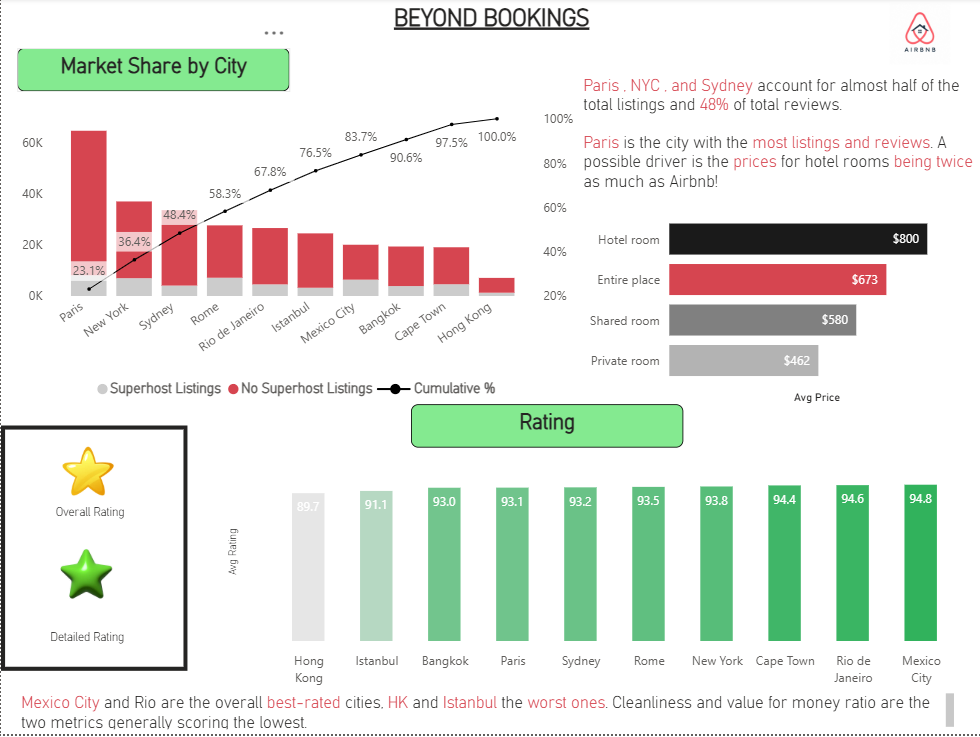

This screenshot's page, from the dashboard's own definition file:
{"tool":"powerbi","page":{"name":"Ratings","canvas":[960,720],"ordinal":1},"visuals":[{"type":"textbox","box":[150.4,0,659.1,59.9],"z":0},{"type":"image","box":[42.2,428.8,84.4,67.8],"z":0,"group":"g3"},{"type":"image","box":[35.2,526.2,96.7,75.6],"z":0,"group":"g2"},{"type":"image","box":[847.4,0,103.9,69.7],"z":1000},{"type":"textbox","box":[35,610.6,97.8,38.9],"z":1000,"group":"g2"},{"type":"textbox","box":[15.6,48.9,266.7,42.2],"z":2000},{"type":"textbox","box":[15,673.8,922.5,46.2],"z":3000},{"type":"lineStackedColumnComboChart","fields":{"Category":["Listings.city"],"Y":["Listings.Superhost Listings","Listings.No Superhost Listings"],"Y2":["Listings.Cumulative %"]},"box":[15.6,102.2,550,300],"z":4000},{"type":"barChart","fields":{"Category":["Listings.room_type"],"Y":["Listings.Avg Price"]},"box":[565.6,192.2,383.3,210],"z":5000},{"type":"textbox","box":[565.6,70,394.4,137.8],"z":6000},{"type":"textbox","box":[401.2,397.5,266.2,42.5],"z":8000},{"type":"shape","box":[0,418.8,182.5,240],"z":10000},{"type":"pivotTable","fields":{"Rows":["Listings.city"],"Values":["Listings.Cleanliness","Listings.Communication","Listings.Location","Listings.Value","Listings.Accuracy"]},"box":[214,439,722.7,234.8],"z":10500},{"type":"group","id":"g1","title":"Group 1","box":[35,428.8,102.5,97.5],"z":11000},{"type":"group","id":"g2","title":"Group 2","box":[35,526.2,97.5,123.8],"z":12000},{"type":"textbox","box":[35,487.7,103.3,37.8],"z":12001,"group":"g3"},{"type":"group","id":"g3","title":"Group 3","box":[35,428.8,103.3,96.7],"z":12003,"group":"g1"}]}

Visuals, with their boxes in screenshot pixels (x1, y1, x2, y2), scaled from the page's 960x720 canvas onto the 980x737 screenshot:
textbox: 154:0:826:61
image: 43:439:129:508
image: 36:539:135:616
image: 865:0:971:71
textbox: 36:625:136:665
textbox: 16:50:288:93
textbox: 15:690:957:736
lineStackedColumnComboChart - Listings.city x Listings.Superhost Listings: 16:105:577:412
barChart - Listings.room_type x Listings.Avg Price: 577:197:969:412
textbox: 577:72:979:213
textbox: 410:407:681:450
shape: 0:429:186:674
pivotTable - Listings.city x Listings.Cleanliness: 218:449:956:690
"Group 1" group: 36:439:140:539
"Group 2" group: 36:539:135:665
textbox: 36:499:141:538
"Group 3" group: 36:439:141:538
